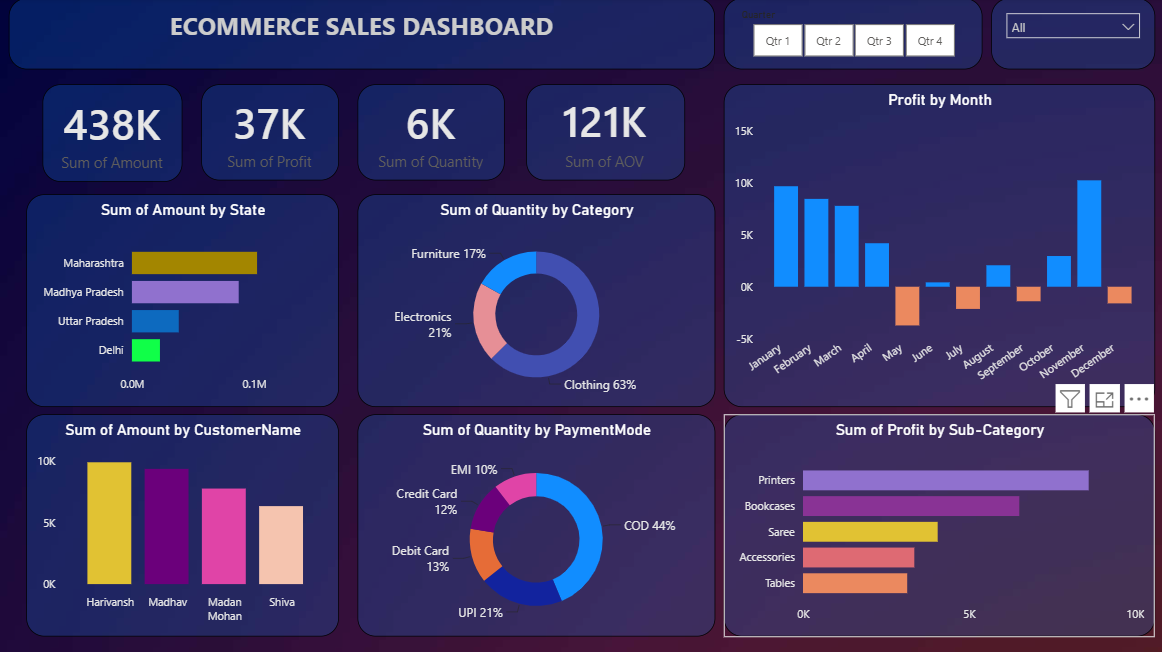

What the dashboard file says about the page in this screenshot:
{"tool":"powerbi","page":{"name":"Page 1","canvas":[1280,720],"ordinal":0},"visuals":[{"type":"textbox","box":[9.6,0,775.3,78.2],"z":0},{"type":"columnChart","title":"Profit by Month","fields":{"Category":["Orders.Order Date.Variation.Date Hierarchy.Month"],"Y":["Sum(Details.Profit)"]},"box":[794.5,94.7,473.4,354],"z":1000},{"type":"barChart","fields":{"Category":["Details.Sub-Category"],"Y":["Sum(Details.Profit)"]},"box":[794.5,456.9,473.4,244.3],"z":2000},{"type":"donutChart","fields":{"Category":["Details.Category"],"Y":["Sum(Details.Quantity)"]},"box":[392.5,215.4,392.5,233.3],"z":3000},{"type":"donutChart","fields":{"Category":["Details.PaymentMode"],"Y":["Sum(Details.Quantity)"]},"box":[392.5,456.9,392.5,244.3],"z":4000},{"type":"cardVisual","fields":{"Data":["Sum(Details.Amount)"]},"box":[46.7,94.7,153.7,107],"z":5000},{"type":"cardVisual","fields":{"Data":["Sum(Details.Profit)"]},"box":[220.9,94.7,150.9,105.7],"z":6000},{"type":"cardVisual","fields":{"Data":["Sum(Details.Quantity)"]},"box":[392.5,94.7,161.9,105.7],"z":7000},{"type":"cardVisual","fields":{"Data":["Sum(Details.AOV)"]},"box":[577.7,94.7,174.3,105.7],"z":8000},{"type":"barChart","fields":{"Category":["Orders.State"],"Y":["Sum(Details.Amount)"]},"box":[28.8,215.4,343.1,233.3],"z":9000},{"type":"columnChart","fields":{"Category":["Orders.CustomerName"],"Y":["Sum(Details.Amount)"]},"box":[28.8,456.9,343.1,244.3],"z":10000},{"type":"slicer","fields":{"Values":["Orders.Order Date.Variation.Date Hierarchy.Quarter"]},"box":[794.5,0,284,78.2],"z":11000},{"type":"slicer","fields":{"Values":["Orders.State"]},"box":[1088.2,0,179.8,78.2],"z":12000}]}

Visuals, with their boxes in screenshot pixels (x1, y1, x2, y2), scaled from the page's 1280x720 canvas onto the 1162x652 screenshot:
textbox: 9/0/713/71
"Profit by Month" columnChart: 721/86/1151/406
barChart - Details.Sub-Category x Sum(Details.Profit): 721/414/1151/635
donutChart - Details.Category x Sum(Details.Quantity): 356/195/713/406
donutChart - Details.PaymentMode x Sum(Details.Quantity): 356/414/713/635
cardVisual - Sum(Details.Amount): 42/86/182/183
cardVisual - Sum(Details.Profit): 201/86/338/181
cardVisual - Sum(Details.Quantity): 356/86/503/181
cardVisual - Sum(Details.AOV): 524/86/683/181
barChart - Orders.State x Sum(Details.Amount): 26/195/338/406
columnChart - Orders.CustomerName x Sum(Details.Amount): 26/414/338/635
slicer - Orders.Order Date.Variation.Date Hierarchy.Quarter: 721/0/979/71
slicer - Orders.State: 988/0/1151/71
